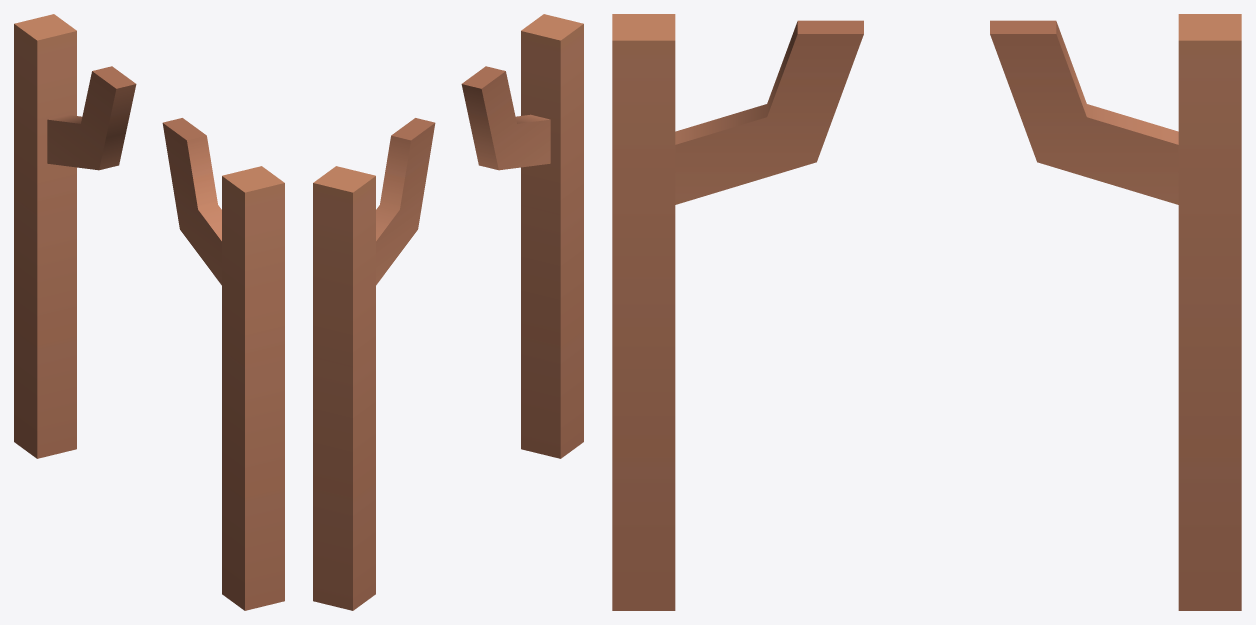
File: balcony-wall.glb
The picture shows the model from 3 angles, left to right: view 1: azimuth 30°, elevation 25°; view 2: azimuth 150°, elevation 25°; view 3: azimuth 270°, elevation 25°; orthographic projection. The views are drawn at different scales.
Parts seen in each view (by area): view 1: balcony-wall; view 2: balcony-wall; view 3: balcony-wall.
Boxes of the visible parts, <box> form: balcony-wall: <box>14,14,284,610</box>; balcony-wall: <box>313,14,583,610</box>; balcony-wall: <box>612,14,1241,610</box>.
Bounding box in the file's own units: 0.1 × 1 × 1.
Materials: 1 (1 with a texture image).
